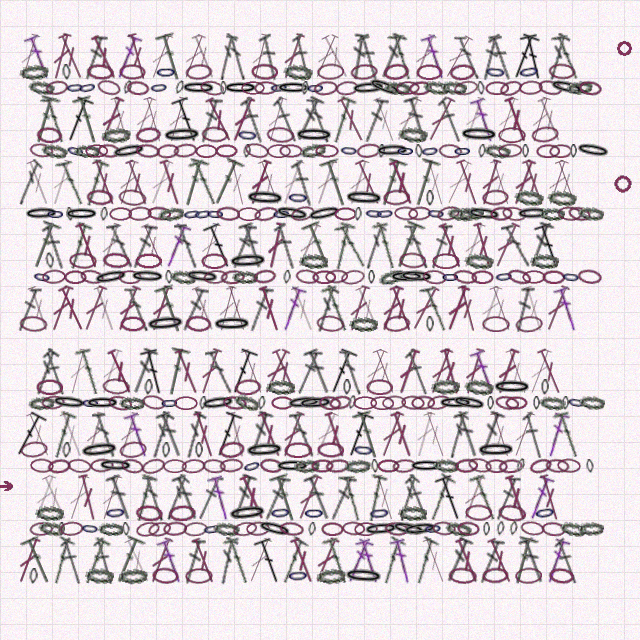chain: (366, 75, 403, 100), (79, 440, 120, 460), (227, 503, 268, 523), (256, 518, 293, 540), (145, 314, 186, 333), (548, 77, 585, 98), (306, 203, 343, 224), (390, 519, 427, 539), (244, 441, 285, 459), (343, 567, 384, 585), (162, 126, 202, 144), (111, 141, 147, 161), (245, 189, 285, 207), (344, 189, 384, 207), (228, 252, 268, 270), (93, 267, 129, 287), (451, 393, 487, 413), (575, 141, 611, 160), (274, 204, 310, 223), (459, 126, 499, 143), (466, 205, 502, 223), (200, 394, 236, 412), (402, 520, 438, 538), (294, 127, 334, 143), (212, 316, 252, 332), (492, 379, 532, 395), (476, 442, 516, 458), (377, 266, 406, 288), (184, 268, 220, 285), (51, 394, 87, 411), (286, 394, 322, 411), (497, 503, 527, 523), (233, 392, 261, 413), (363, 521, 399, 537), (514, 188, 544, 207), (351, 80, 386, 96), (298, 395, 333, 411), (118, 188, 147, 207), (316, 314, 345, 333), (19, 63, 49, 81), (283, 63, 313, 81), (101, 126, 131, 144), (547, 189, 577, 207), (464, 252, 494, 270), (464, 378, 494, 396), (140, 456, 167, 476), (118, 567, 148, 585), (316, 567, 346, 585), (531, 125, 559, 144), (299, 141, 327, 160), (383, 314, 411, 333), (20, 440, 48, 459), (119, 440, 147, 459), (218, 440, 246, 459), (375, 143, 410, 158), (24, 206, 59, 221), (516, 206, 551, 221), (130, 269, 165, 284), (399, 269, 434, 284), (98, 458, 133, 473), (266, 126, 295, 144), (19, 315, 48, 333), (498, 78, 524, 98), (506, 267, 532, 287), (528, 456, 554, 476), (383, 62, 410, 81), (398, 126, 428, 143), (86, 63, 114, 81), (185, 63, 213, 81), (350, 63, 378, 81), (157, 205, 185, 223), (515, 315, 543, 333), (234, 378, 262, 396), (135, 504, 163, 522), (168, 504, 196, 522), (559, 520, 587, 538), (96, 78, 122, 97), (537, 78, 563, 97), (244, 141, 270, 160), (290, 204, 316, 223), (141, 393, 167, 412), (426, 393, 452, 412), (467, 456, 493, 475), (431, 378, 460, 395), (85, 567, 114, 584), (448, 567, 477, 584), (181, 81, 216, 95), (223, 81, 258, 95), (276, 81, 311, 95), (64, 207, 99, 221), (389, 270, 424, 284), (85, 396, 120, 410), (438, 396, 473, 410), (275, 459, 310, 473), (409, 459, 444, 473), (449, 63, 476, 81), (36, 126, 63, 144), (135, 126, 162, 144), (41, 142, 68, 160), (445, 520, 472, 538), (548, 567, 575, 585), (548, 63, 576, 80), (201, 126, 229, 143), (86, 189, 114, 206), (69, 252, 97, 269), (102, 252, 130, 269), (102, 378, 130, 395), (436, 204, 461, 223), (199, 79, 225, 97), (453, 79, 479, 97), (253, 205, 279, 223), (501, 205, 527, 223), (79, 268, 105, 286), (340, 268, 366, 286), (452, 268, 478, 286), (107, 394, 133, 412), (494, 394, 520, 412), (135, 520, 161, 538), (232, 520, 258, 538), (299, 253, 328, 269), (530, 253, 559, 269), (349, 316, 378, 332), (266, 379, 295, 395), (35, 505, 64, 521), (398, 505, 427, 521), (251, 63, 278, 80), (317, 63, 344, 80), (28, 79, 55, 96), (423, 79, 450, 96), (566, 79, 593, 96), (383, 189, 410, 206), (482, 189, 509, 206), (399, 252, 426, 269), (185, 315, 212, 332), (465, 504, 492, 521), (38, 520, 65, 537), (152, 567, 179, 584), (482, 567, 509, 584), (515, 567, 542, 584), (517, 62, 541, 81), (533, 503, 557, 522), (567, 205, 592, 223), (120, 457, 145, 475), (147, 520, 172, 538), (498, 127, 526, 143), (432, 253, 460, 269), (482, 316, 510, 332), (284, 442, 312, 458), (185, 568, 213, 584), (119, 64, 146, 80), (416, 64, 443, 80), (384, 80, 411, 96), (484, 143, 511, 159), (447, 206, 474, 222), (135, 253, 162, 269), (201, 253, 228, 269), (170, 269, 197, 285), (36, 379, 63, 395), (366, 379, 393, 395), (28, 395, 55, 411), (539, 395, 566, 411), (317, 442, 344, 458), (293, 458, 320, 474), (344, 458, 371, 474), (213, 521, 240, 537), (29, 142, 54, 159), (173, 142, 198, 159), (356, 142, 381, 159), (295, 268, 320, 285), (577, 268, 602, 285), (328, 394, 353, 411), (520, 520, 545, 537), (120, 316, 146, 332), (484, 63, 507, 81), (236, 126, 259, 144), (352, 441, 375, 459), (368, 504, 391, 522), (45, 79, 69, 96), (253, 268, 277, 285), (259, 457, 283, 474), (313, 80, 338, 96), (135, 143, 160, 159), (438, 143, 463, 159), (203, 269, 228, 285), (220, 269, 245, 285), (422, 269, 447, 285), (222, 395, 247, 411), (67, 458, 92, 474), (181, 458, 206, 474), (325, 458, 350, 474), (392, 458, 417, 474), (498, 458, 523, 474), (545, 458, 570, 474), (29, 521, 54, 537), (183, 521, 208, 537), (279, 521, 304, 537), (384, 521, 409, 537), (541, 521, 566, 537), (241, 457, 263, 475), (104, 504, 127, 521), (269, 504, 292, 521), (441, 80, 467, 95), (458, 206, 484, 221), (578, 206, 604, 221), (579, 395, 605, 410), (433, 458, 459, 473), (578, 521, 604, 536), (126, 80, 150, 96), (335, 80, 359, 96), (408, 80, 432, 96), (578, 80, 602, 96), (97, 143, 121, 159), (156, 143, 180, 159), (318, 395, 342, 411), (47, 458, 71, 474), (202, 458, 226, 474), (65, 142, 86, 160), (557, 206, 582, 221), (219, 458, 244, 473), (59, 521, 84, 536), (287, 189, 309, 206), (287, 567, 309, 584), (74, 144, 100, 158), (539, 207, 565, 221), (232, 270, 258, 284), (119, 396, 145, 410), (98, 522, 124, 536), (519, 80, 543, 95), (498, 143, 522, 158), (128, 206, 152, 221), (147, 206, 171, 221), (216, 206, 240, 221), (394, 206, 418, 221), (42, 269, 66, 284), (41, 395, 65, 410), (382, 395, 406, 410), (401, 395, 425, 410), (411, 395, 435, 410), (30, 458, 54, 473), (90, 458, 114, 473), (557, 458, 581, 473), (163, 521, 187, 536), (246, 521, 270, 536), (432, 521, 456, 536), (77, 79, 98, 96), (566, 394, 587, 411), (155, 64, 177, 80), (303, 505, 325, 521), (408, 206, 431, 221), (490, 206, 513, 221), (325, 269, 348, 284), (455, 458, 478, 473), (342, 521, 365, 536), (457, 521, 480, 536), (241, 81, 265, 95), (254, 81, 278, 95), (396, 81, 420, 95), (485, 81, 509, 95), (267, 144, 291, 158), (279, 144, 303, 158), (315, 144, 339, 158), (536, 144, 560, 158), (237, 207, 261, 221), (118, 270, 142, 284), (312, 270, 336, 284), (522, 270, 546, 284), (174, 396, 198, 410), (353, 396, 377, 410), (370, 396, 394, 410), (163, 459, 187, 473), (354, 522, 378, 536), (85, 144, 108, 158), (195, 144, 218, 158), (215, 144, 238, 158), (549, 144, 572, 158), (109, 207, 132, 221), (334, 207, 357, 221), (64, 270, 87, 284), (471, 270, 494, 284), (542, 270, 565, 284), (271, 396, 294, 410), (505, 396, 528, 410), (311, 459, 334, 473), (377, 459, 400, 473), (485, 459, 508, 473), (321, 522, 344, 536), (420, 143, 440, 159), (182, 206, 202, 222), (193, 206, 213, 222), (32, 269, 52, 285), (561, 269, 581, 285), (202, 521, 222, 537), (65, 80, 85, 95), (149, 80, 169, 95), (269, 80, 289, 95), (339, 143, 359, 158), (364, 206, 384, 221), (375, 206, 395, 221), (426, 206, 446, 221), (494, 269, 514, 284), (80, 521, 100, 536), (423, 521, 443, 536), (306, 81, 325, 95), (396, 144, 415, 158), (453, 144, 472, 158), (46, 207, 65, 221), (206, 207, 225, 221), (272, 207, 291, 221), (441, 270, 460, 284), (81, 396, 100, 410), (160, 396, 179, 410), (45, 252, 55, 269), (122, 80, 133, 95), (174, 80, 185, 95), (515, 458, 526, 473), (347, 395, 357, 410), (62, 64, 71, 80), (144, 379, 153, 395), (62, 442, 71, 458), (29, 568, 38, 584), (496, 521, 505, 536), (509, 521, 518, 536), (426, 190, 434, 206), (426, 316, 434, 332), (343, 379, 351, 395), (541, 379, 549, 395), (162, 442, 170, 458), (195, 442, 203, 458), (257, 396, 266, 410), (301, 81, 309, 95), (477, 81, 485, 95), (243, 144, 251, 158), (415, 144, 423, 158), (478, 144, 486, 158), (66, 207, 74, 221), (100, 207, 108, 221), (354, 207, 362, 221), (165, 270, 173, 284), (283, 270, 291, 284), (199, 396, 207, 410), (371, 459, 379, 473), (586, 459, 594, 473), (122, 522, 130, 536), (308, 522, 316, 536), (220, 81, 227, 95), (378, 144, 385, 158), (522, 144, 529, 158), (570, 144, 577, 158), (368, 270, 375, 284), (487, 396, 494, 410), (533, 396, 540, 410), (562, 396, 569, 410), (58, 522, 65, 536), (483, 522, 490, 536)
double: (10, 410, 48, 460), (208, 157, 245, 208), (20, 535, 57, 586), (301, 220, 337, 271), (390, 220, 426, 271), (110, 535, 146, 586), (27, 220, 62, 271), (439, 33, 476, 81), (318, 32, 354, 81), (334, 221, 370, 270), (407, 284, 443, 333), (202, 221, 237, 271), (324, 347, 359, 397), (202, 95, 237, 144), (334, 95, 369, 144), (423, 95, 458, 144), (507, 32, 541, 82), (61, 95, 95, 145), (170, 95, 204, 145), (319, 158, 353, 208), (154, 284, 188, 334), (210, 410, 244, 460), (391, 95, 425, 144), (441, 158, 475, 207), (55, 284, 89, 333), (259, 347, 293, 396), (38, 473, 72, 522), (121, 536, 155, 585), (276, 536, 310, 585), (375, 158, 408, 208), (533, 221, 566, 271), (226, 347, 259, 397), (342, 410, 375, 460), (352, 410, 385, 460), (269, 473, 302, 523), (434, 473, 467, 523), (253, 536, 286, 586), (55, 32, 88, 81), (292, 95, 325, 144), (55, 158, 88, 207), (187, 158, 220, 207), (352, 158, 385, 207), (292, 221, 325, 270), (490, 221, 523, 270), (352, 284, 385, 333), (104, 347, 137, 396), (269, 347, 302, 396), (22, 410, 55, 459), (236, 473, 269, 522), (424, 473, 457, 522), (78, 536, 111, 585), (484, 536, 517, 585), (155, 32, 187, 82), (29, 95, 61, 145), (72, 95, 104, 145), (178, 158, 210, 208), (409, 158, 441, 208), (88, 33, 121, 81), (188, 32, 220, 81), (310, 32, 342, 81), (376, 32, 408, 81), (551, 32, 583, 81), (95, 95, 127, 144), (534, 95, 566, 144), (145, 158, 177, 207), (386, 158, 418, 207), (435, 221, 467, 270), (112, 284, 144, 333), (287, 284, 319, 333), (419, 284, 451, 333), (541, 284, 573, 333), (171, 347, 203, 396), (303, 347, 335, 396), (359, 347, 391, 396), (534, 347, 566, 396), (56, 410, 88, 459), (155, 410, 187, 459), (254, 410, 286, 459), (310, 410, 342, 459), (171, 473, 203, 522), (293, 473, 325, 522), (303, 473, 335, 522), (188, 536, 220, 585), (310, 536, 342, 585), (442, 536, 474, 585), (508, 536, 539, 586), (23, 32, 54, 81), (112, 32, 143, 81), (145, 32, 176, 81), (178, 32, 209, 81), (409, 32, 440, 81), (227, 95, 258, 144), (326, 95, 357, 144), (501, 95, 532, 144), (23, 158, 54, 207), (79, 158, 110, 207), (89, 158, 120, 207), (122, 158, 153, 207), (254, 158, 285, 207), (277, 158, 308, 207), (508, 158, 539, 207), (551, 158, 582, 207), (72, 221, 103, 270), (138, 221, 169, 270), (161, 221, 192, 270), (458, 221, 489, 270), (46, 284, 77, 333), (79, 284, 110, 333), (188, 284, 219, 333), (320, 284, 351, 333), (376, 284, 407, 333), (386, 284, 417, 333), (442, 284, 473, 333), (475, 284, 506, 333), (128, 347, 159, 396), (237, 347, 268, 396), (369, 347, 400, 396), (425, 347, 456, 396), (524, 347, 555, 396), (277, 410, 308, 459), (376, 410, 407, 459), (475, 410, 506, 459), (29, 473, 60, 522), (105, 473, 136, 522), (458, 473, 489, 522), (468, 473, 499, 522), (13, 536, 44, 585), (145, 536, 176, 585), (244, 536, 275, 585), (287, 536, 318, 585), (343, 536, 374, 585), (419, 536, 450, 585), (452, 536, 483, 585), (518, 536, 549, 585), (139, 347, 169, 397), (501, 222, 532, 270), (278, 32, 308, 81), (129, 95, 159, 144), (370, 95, 400, 144), (459, 95, 489, 144), (492, 95, 522, 144), (245, 158, 275, 207), (311, 158, 341, 207), (453, 158, 483, 207), (519, 158, 549, 207), (542, 158, 572, 207), (63, 221, 93, 270), (525, 221, 555, 270), (24, 284, 54, 333), (90, 284, 120, 333), (146, 284, 176, 333), (255, 284, 285, 333), (486, 284, 516, 333), (96, 347, 126, 396), (195, 347, 225, 396), (393, 347, 423, 396), (469, 347, 499, 396), (492, 347, 522, 396), (502, 347, 532, 396), (47, 410, 77, 459), (387, 410, 417, 459), (420, 410, 450, 459), (453, 410, 483, 459), (552, 410, 582, 459), (63, 473, 93, 522), (228, 473, 258, 522), (525, 473, 555, 522), (156, 536, 186, 585), (222, 536, 252, 585), (321, 536, 351, 585), (377, 536, 407, 585), (410, 536, 440, 585), (519, 32, 548, 82), (162, 347, 191, 397), (179, 285, 209, 333), (30, 348, 60, 396), (261, 474, 291, 522), (327, 474, 357, 522), (387, 32, 416, 81), (420, 32, 449, 81), (40, 95, 69, 144), (403, 95, 432, 144), (469, 95, 498, 144), (47, 158, 76, 207), (113, 158, 142, 207), (156, 158, 185, 207), (344, 158, 373, 207), (476, 158, 505, 207), (486, 158, 515, 207), (96, 221, 125, 270), (195, 221, 224, 270), (238, 221, 267, 270), (222, 284, 251, 333), (278, 284, 307, 333), (344, 284, 373, 333), (123, 410, 152, 459), (245, 410, 274, 459), (321, 410, 350, 459), (486, 410, 515, 459), (509, 410, 538, 459), (96, 473, 125, 522), (129, 473, 158, 522), (370, 473, 399, 522), (502, 473, 531, 522), (47, 536, 76, 585), (542, 536, 571, 585), (271, 96, 301, 143), (14, 159, 44, 206), (106, 222, 135, 270), (129, 222, 158, 270), (311, 285, 340, 333), (205, 348, 234, 396), (294, 348, 323, 396), (403, 348, 432, 396), (146, 411, 175, 459), (476, 537, 505, 585), (15, 32, 43, 81), (163, 95, 191, 144), (262, 95, 290, 144), (526, 95, 554, 144), (421, 158, 449, 207), (328, 221, 356, 270), (371, 221, 399, 270), (520, 284, 548, 333), (553, 284, 581, 333), (74, 347, 102, 396), (460, 347, 488, 396), (81, 410, 109, 459), (114, 410, 142, 459), (190, 410, 218, 459), (411, 410, 439, 459), (536, 473, 564, 522), (355, 536, 383, 585), (436, 96, 465, 143), (162, 474, 191, 521), (195, 474, 224, 521), (403, 474, 432, 521), (454, 33, 482, 81), (487, 33, 515, 81), (543, 33, 571, 81), (239, 96, 267, 144), (361, 96, 389, 144), (229, 222, 257, 270), (246, 285, 274, 333), (41, 348, 69, 396), (493, 474, 521, 522), (553, 537, 581, 585), (48, 32, 75, 81), (124, 32, 151, 81), (107, 95, 134, 144), (140, 95, 167, 144), (470, 221, 497, 270), (213, 284, 240, 333), (454, 284, 481, 333), (437, 347, 464, 396), (543, 410, 570, 459), (338, 473, 365, 522), (361, 473, 388, 522), (81, 33, 108, 81), (41, 222, 68, 270), (361, 222, 388, 270), (404, 222, 431, 270), (15, 285, 42, 333), (124, 285, 151, 333), (180, 411, 207, 459), (289, 411, 316, 459), (247, 32, 273, 81), (224, 158, 250, 207), (65, 347, 91, 396), (224, 410, 250, 459), (75, 473, 101, 522), (207, 473, 233, 522), (389, 536, 415, 585), (356, 33, 382, 81), (197, 96, 223, 144), (306, 96, 332, 144), (290, 159, 316, 207), (273, 222, 299, 270), (395, 474, 421, 522), (59, 537, 85, 585), (263, 221, 288, 270), (174, 222, 199, 270), (428, 222, 453, 270), (339, 348, 364, 396), (92, 411, 117, 459), (445, 411, 470, 459), (521, 411, 546, 459), (92, 537, 117, 585), (181, 537, 206, 585), (214, 537, 239, 585), (142, 474, 166, 522), (215, 33, 238, 81), (258, 33, 281, 81), (291, 33, 314, 81), (479, 33, 502, 81), (512, 285, 535, 333), (226, 33, 248, 81), (348, 33, 370, 81)
noise: (611, 172, 634, 195), (614, 38, 634, 58), (0, 481, 15, 491)
